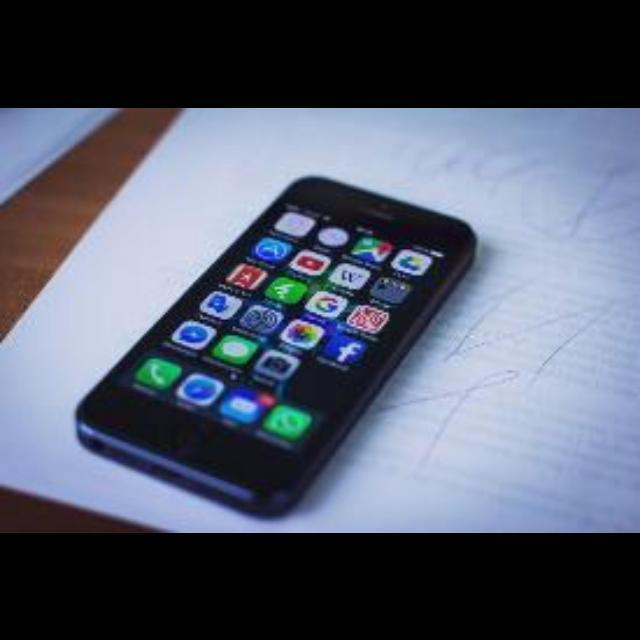PhoneUse: (74, 178, 476, 516)
